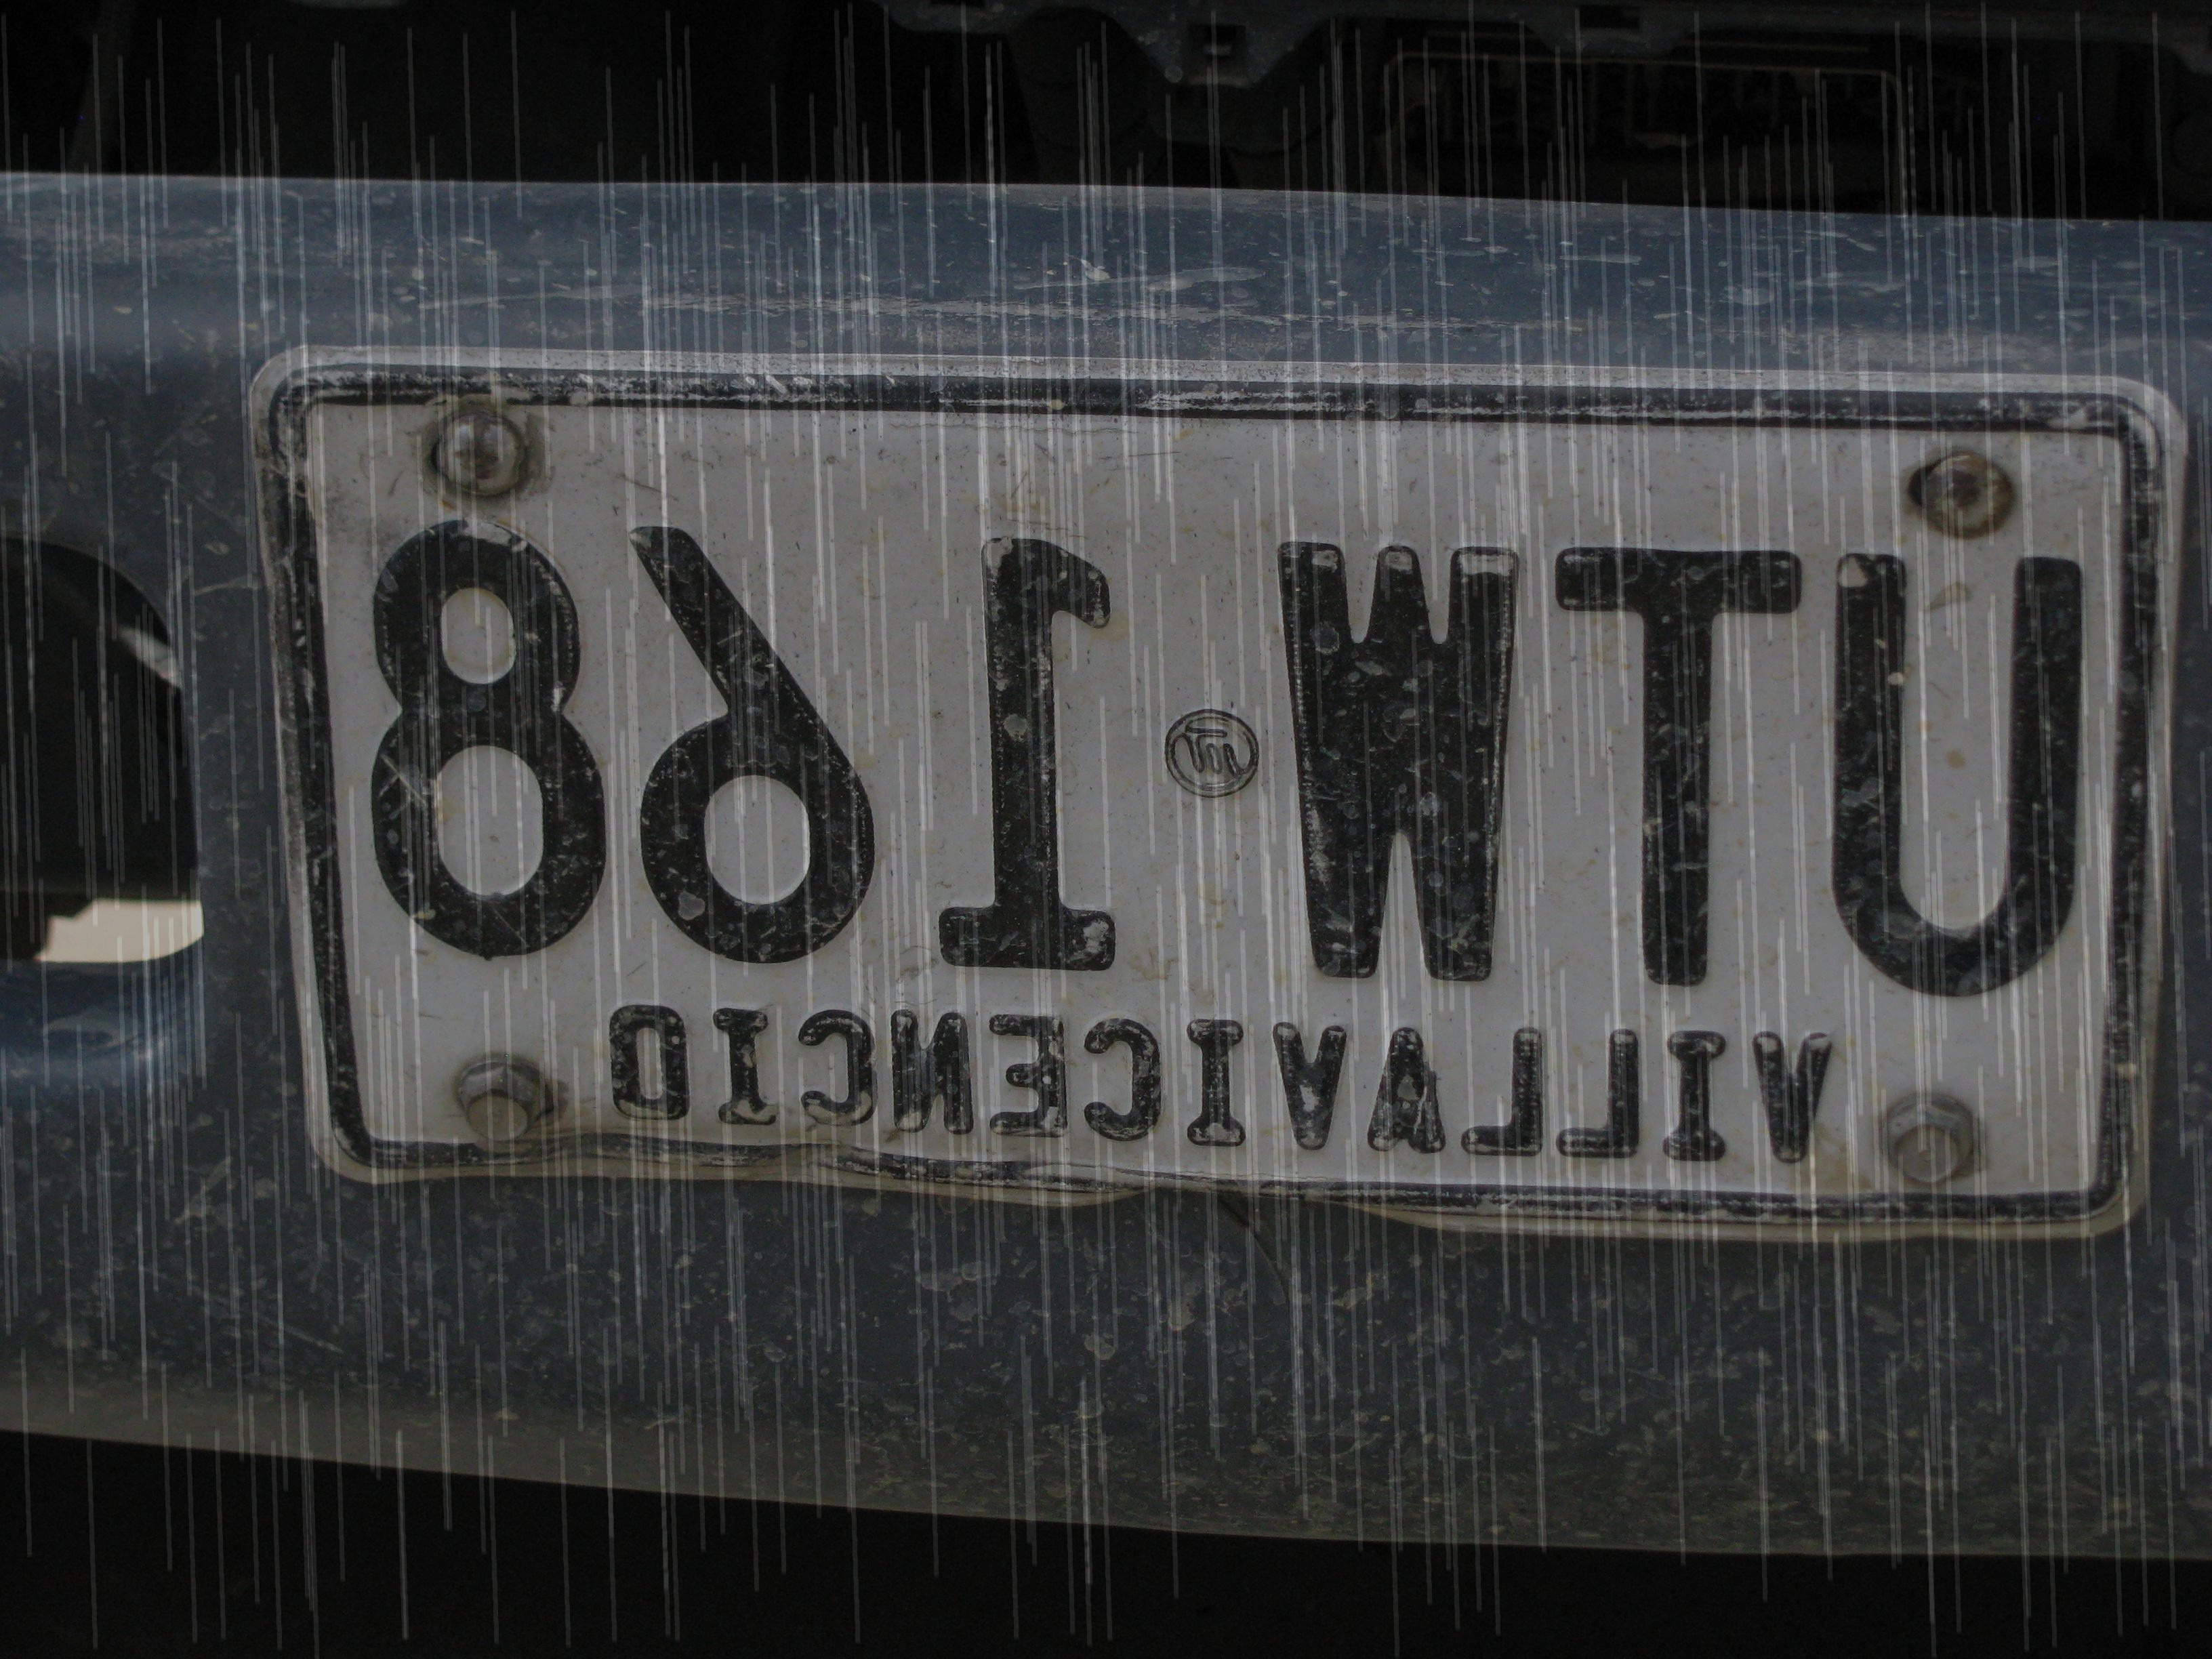placas: (243, 334, 2194, 1252)
